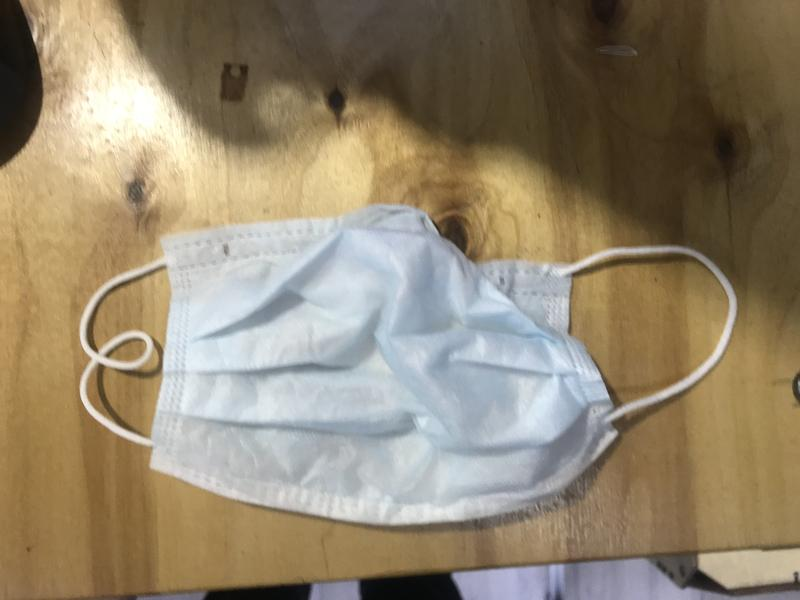medical_mask: (78, 204, 739, 525)
